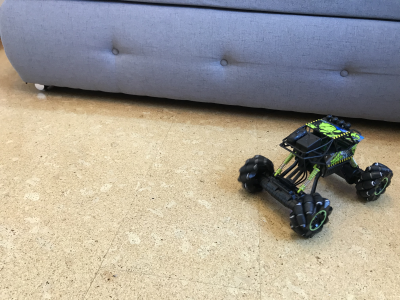remote control car: (235, 102, 396, 240)
